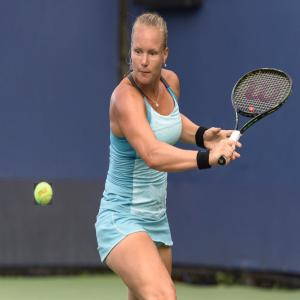TennisBall: (35, 184, 54, 207)
